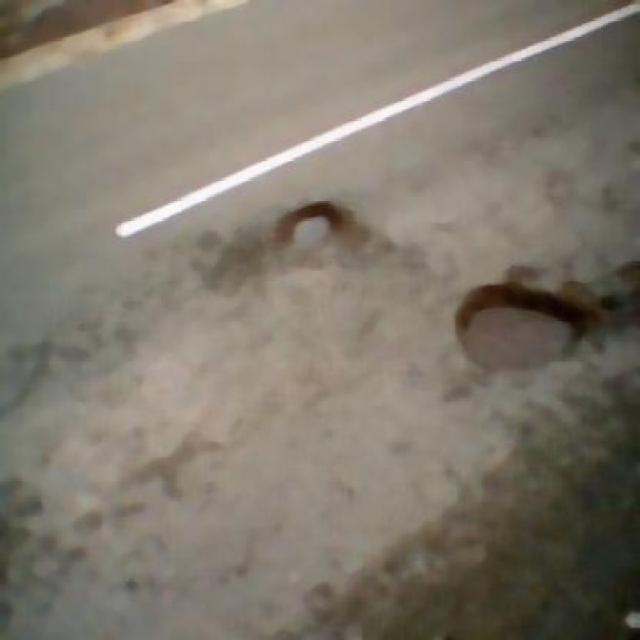Pothole: (457, 285, 588, 373), (284, 202, 342, 250), (616, 262, 638, 346)
